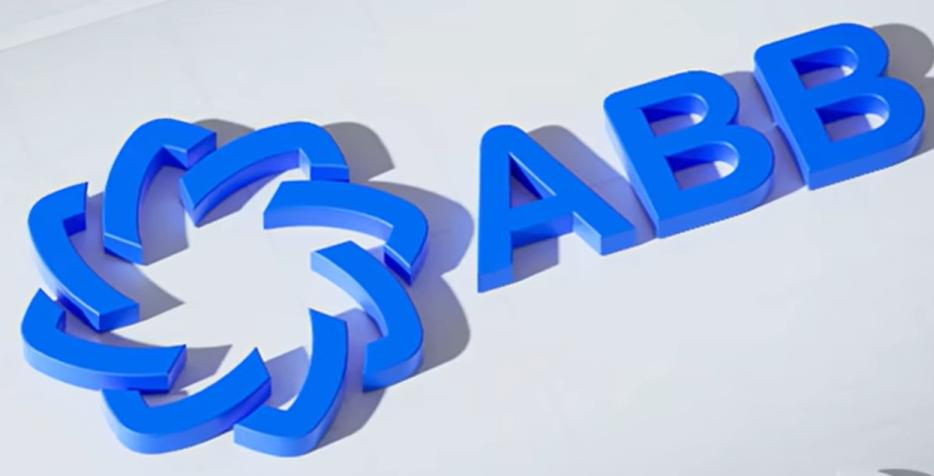ABB: (16, 113, 429, 460)
